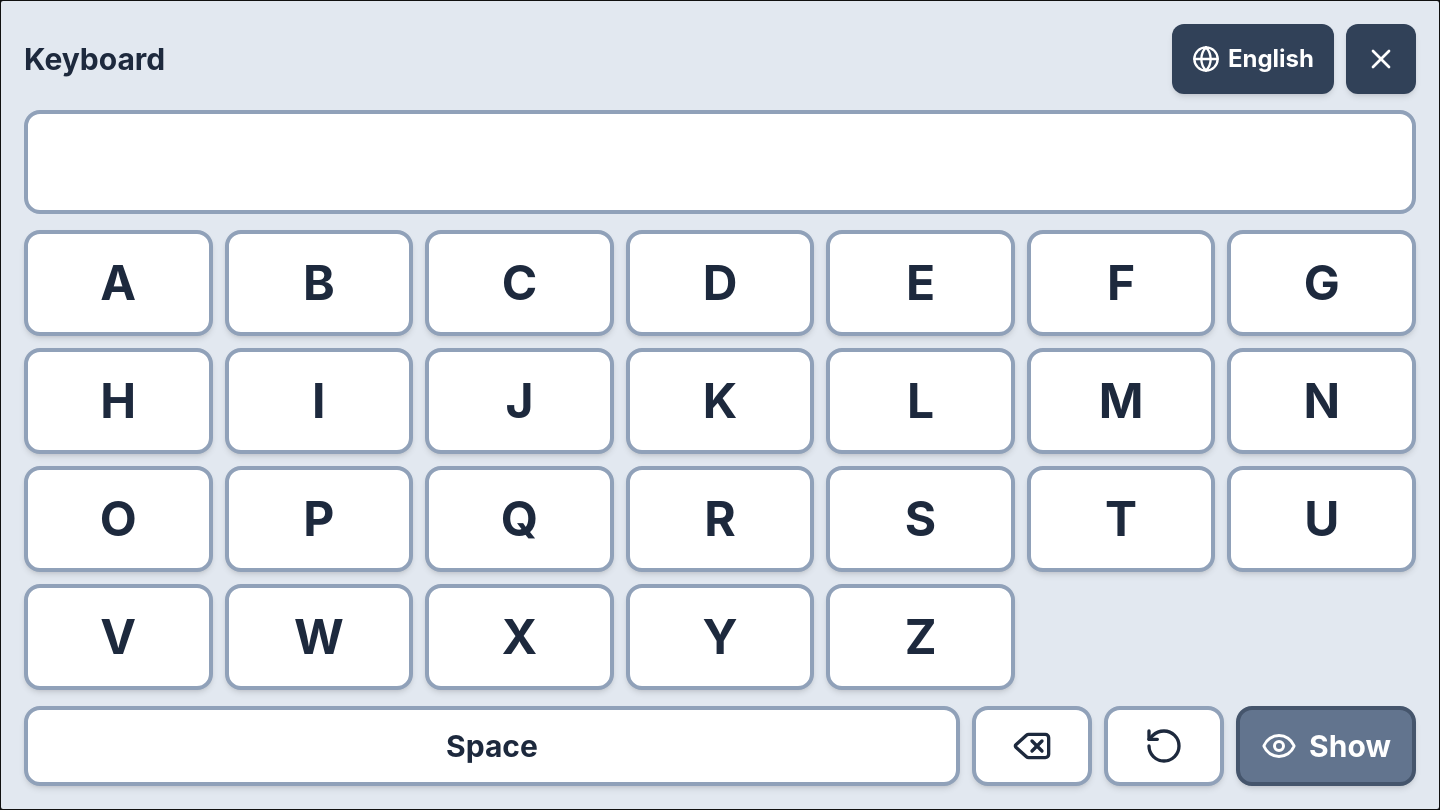
Scenario: KeyboardScreen – User Story 3: language switcher › opens a list of configured languages when the switcher is tapped
The image size is (1440, 810).
Click the button with aria-label "change language" at (1253, 59), box [1172, 24, 1334, 94]
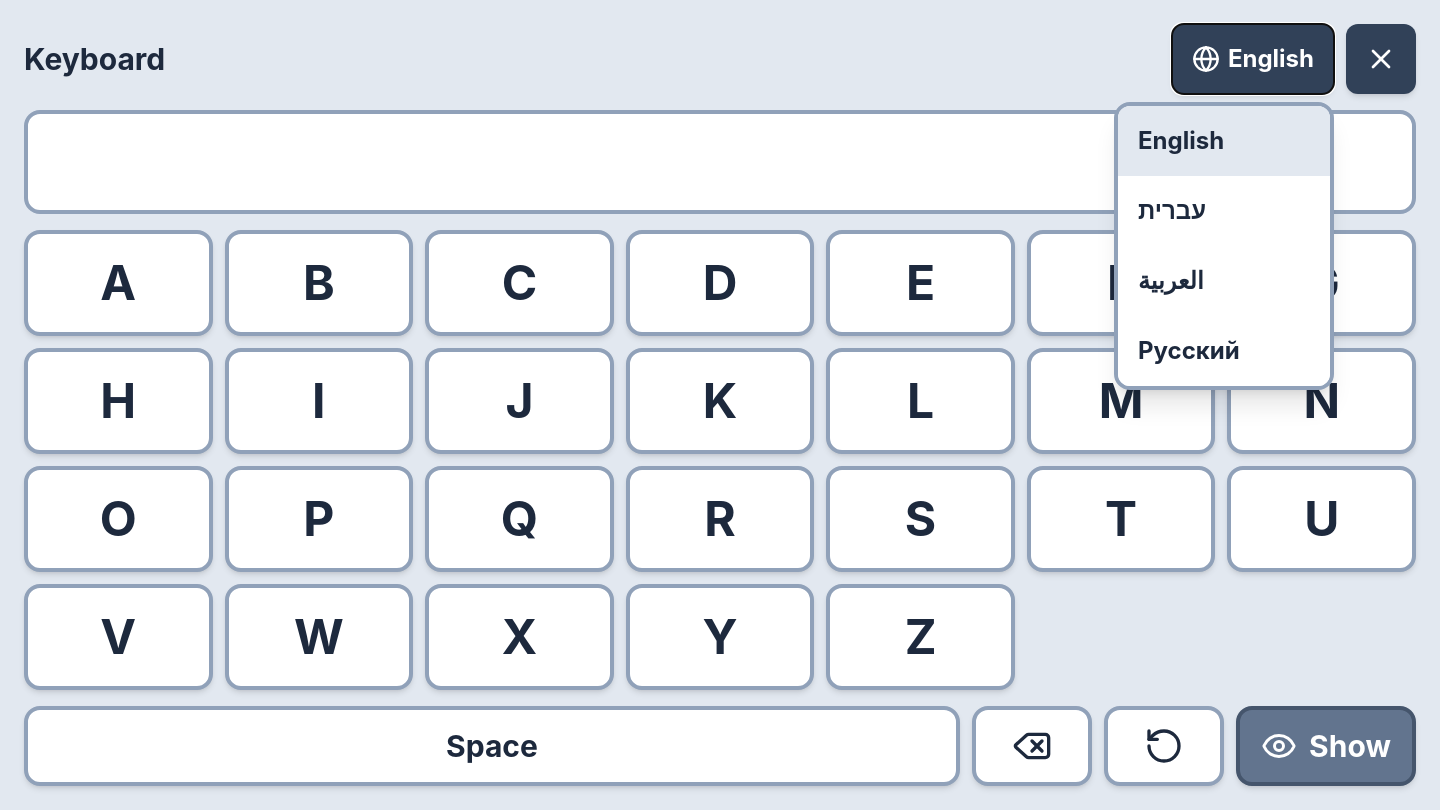
Expected: the option "English" is shown, [1118, 106, 1330, 176]
Expected: the option "עברית" is shown, [1118, 176, 1330, 246]
Expected: the option "العربية" is shown, [1118, 246, 1330, 316]
